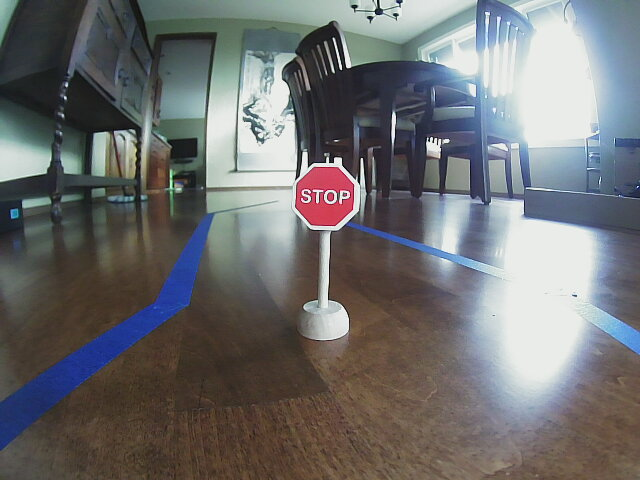StopSign: (293, 164, 358, 228)
